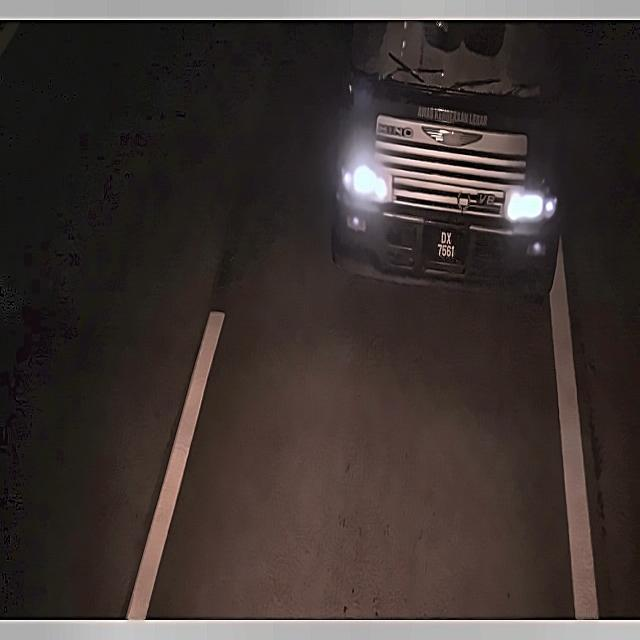car: (424, 214, 470, 275)
